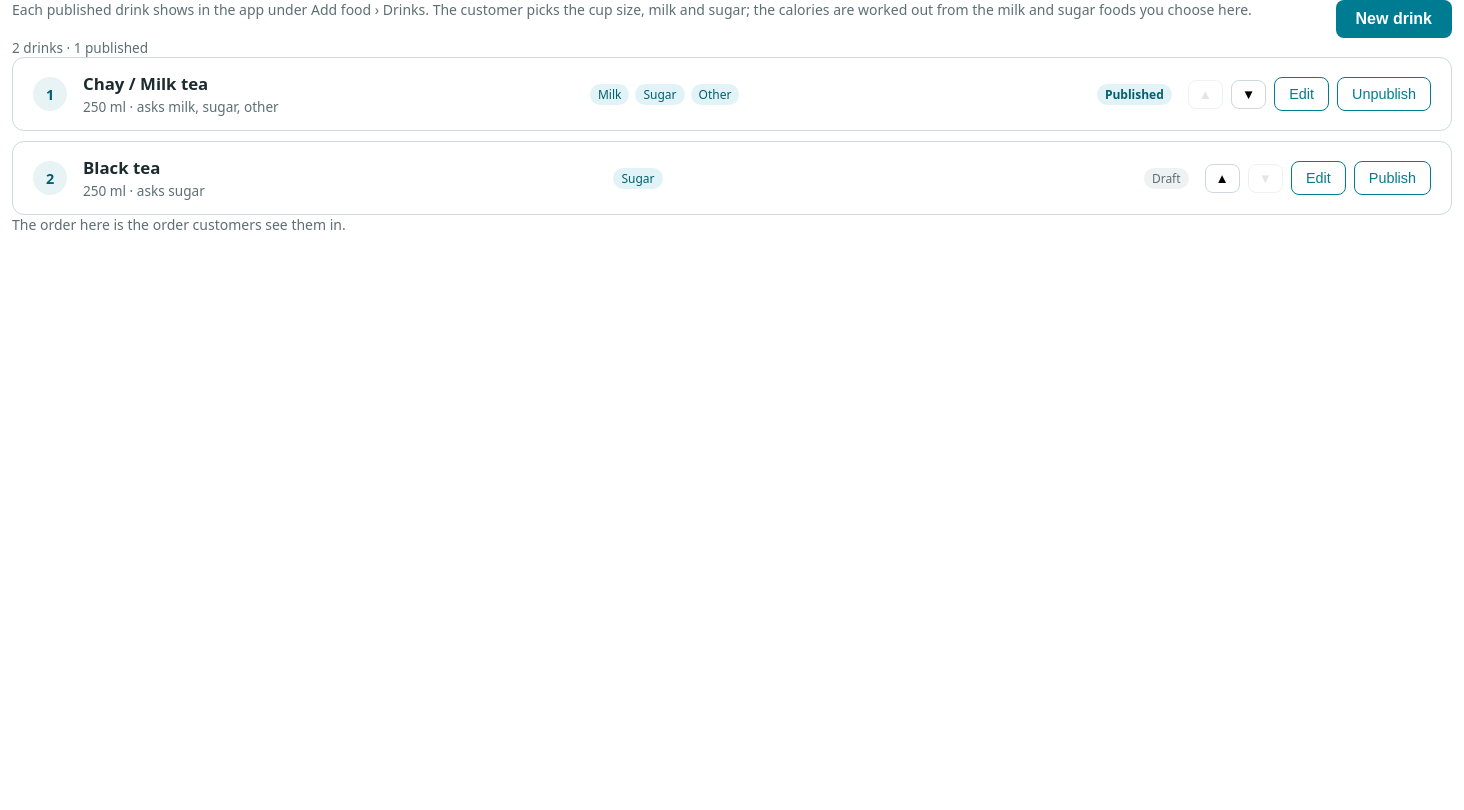
Test: DrinkEditor › warns when a picked food is still a draft
Click the button "New drink". click: (1394, 19)
box: [1336,0,1452,38]
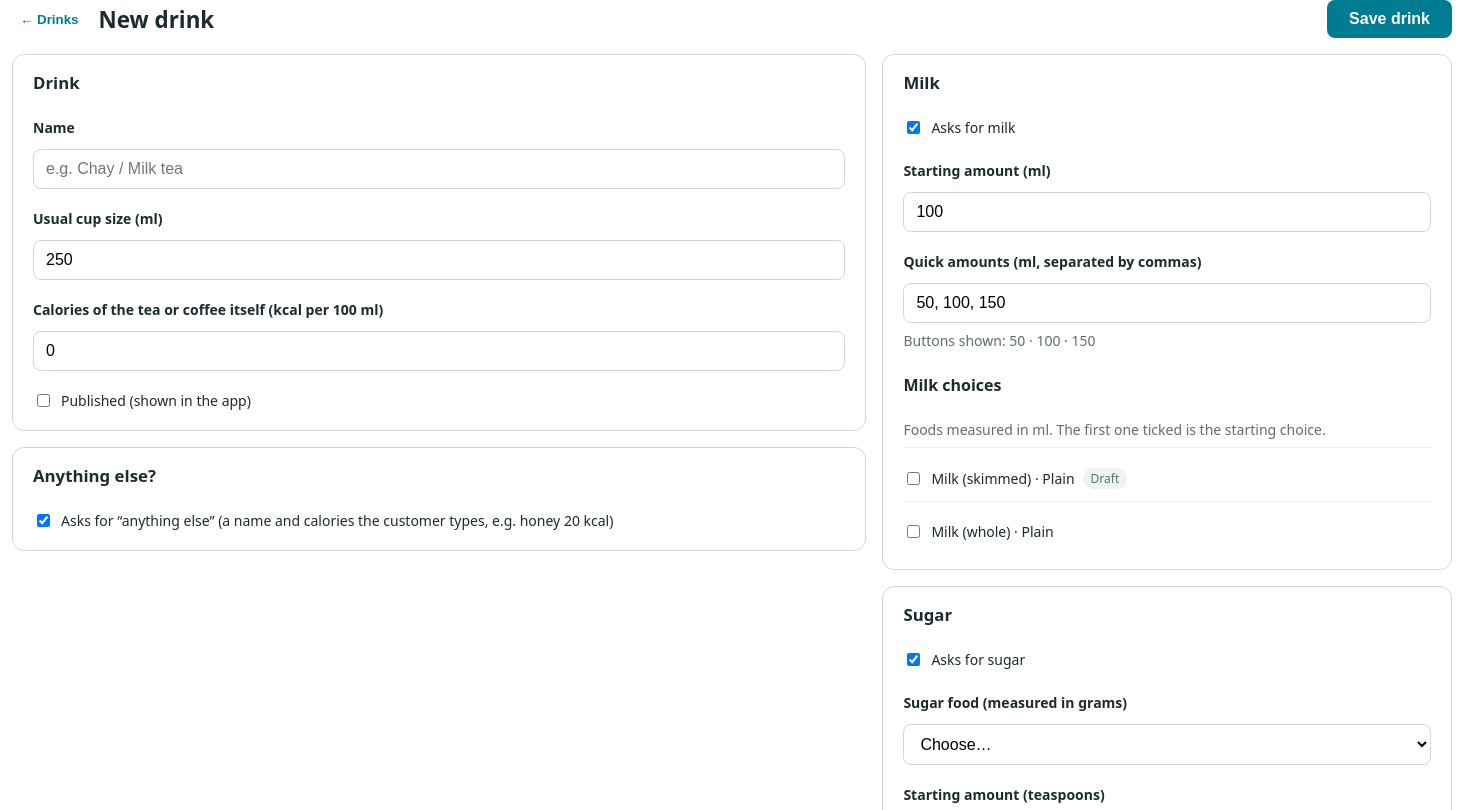
Click the checkbox labelled "Milk (skimmed) · Plain Draft". click: (914, 478)
box: [907,472,920,485]
(page scrolled)
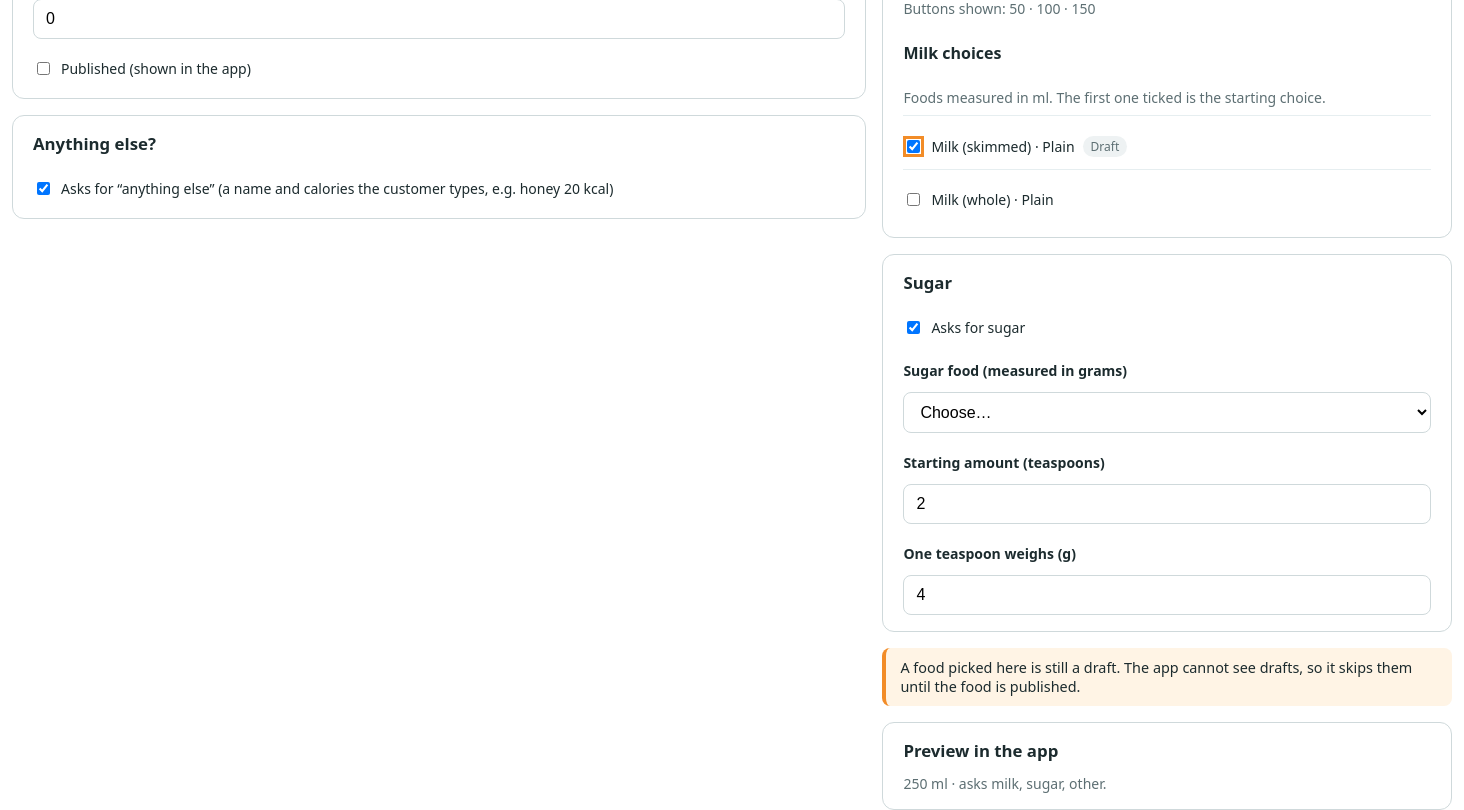
Check: the text "still a draft" is shown, box [900,658,1412,696]
